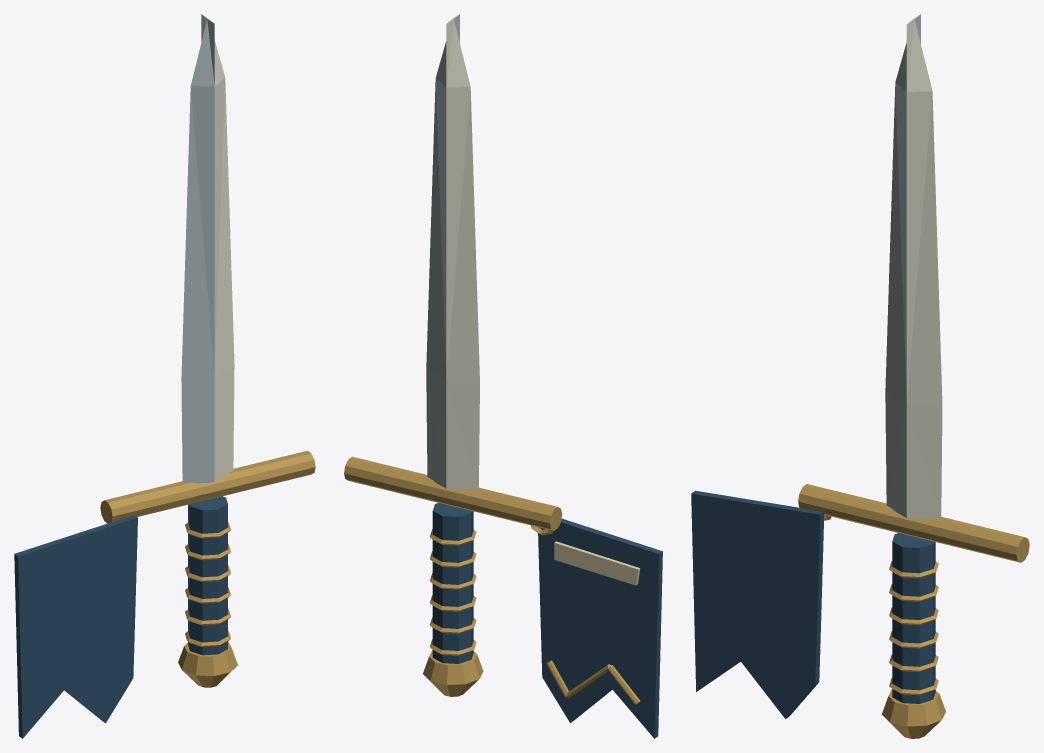
File: Uncrowned.fbx
The picture shows the model from 3 angles, left to right: view 1: azimuth 30°, elevation 25°; view 2: azimuth 150°, elevation 25°; view 3: azimuth 330°, elevation 25°; orthographic projection. The views are drawn at different scales.
Visible parts, largest first — view 1: Legendary_Uncrowned; view 2: Legendary_Uncrowned; view 3: Legendary_Uncrowned.
Boxes of the visible parts, <box> form: Legendary_Uncrowned: <box>14,14,315,738</box>; Legendary_Uncrowned: <box>344,14,662,738</box>; Legendary_Uncrowned: <box>691,14,1029,738</box>.
Size of the model in its own units: 0.65 by 1.39 by 0.1076.
